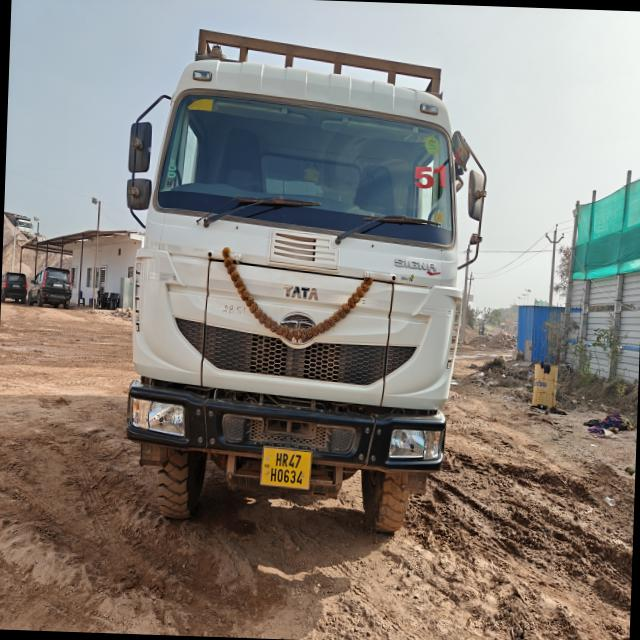license_plate: (261, 448, 312, 489), (54, 284, 64, 287), (14, 285, 20, 288)
